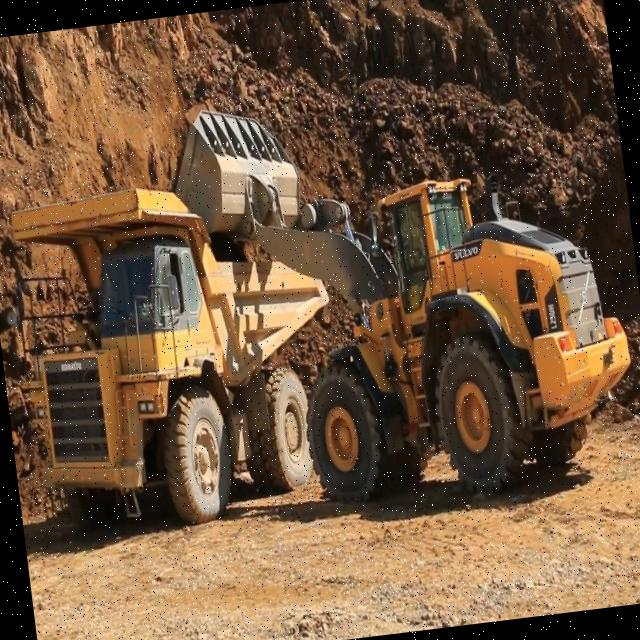Dump Truck: (2, 163, 354, 538)
Loader: (161, 52, 640, 531)
